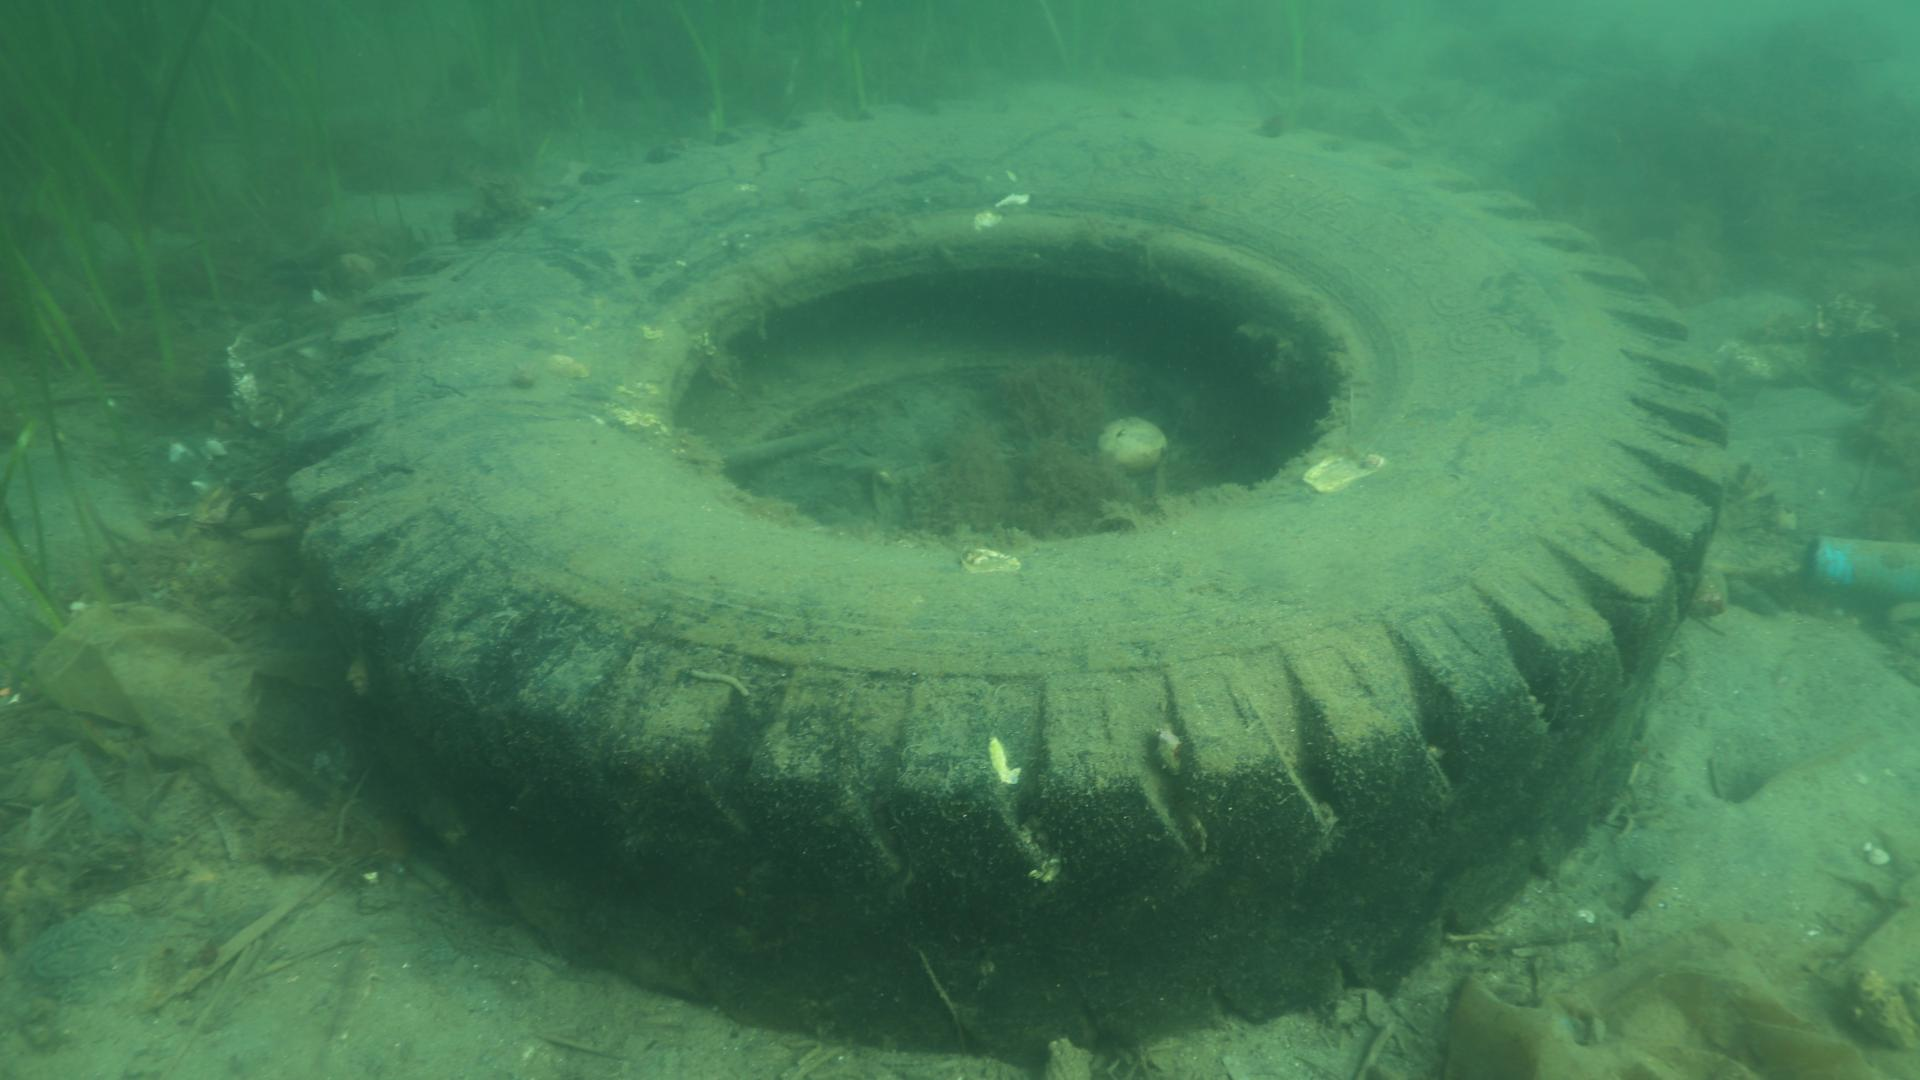tire: (286, 98, 1731, 1060)
